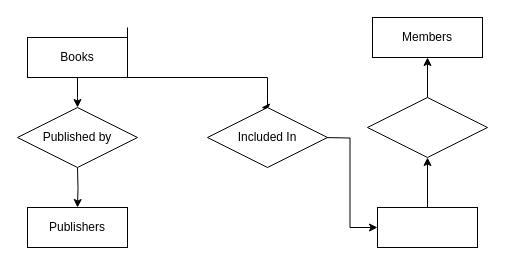
The diagram is 505 pixels wide and 265 high, and some of its shapes have lost their labels. Here are the shapes that lost their labels. From the top down, the box of each, then its label:
(366, 96, 488, 158): Done By
(376, 206, 478, 248): Loans
